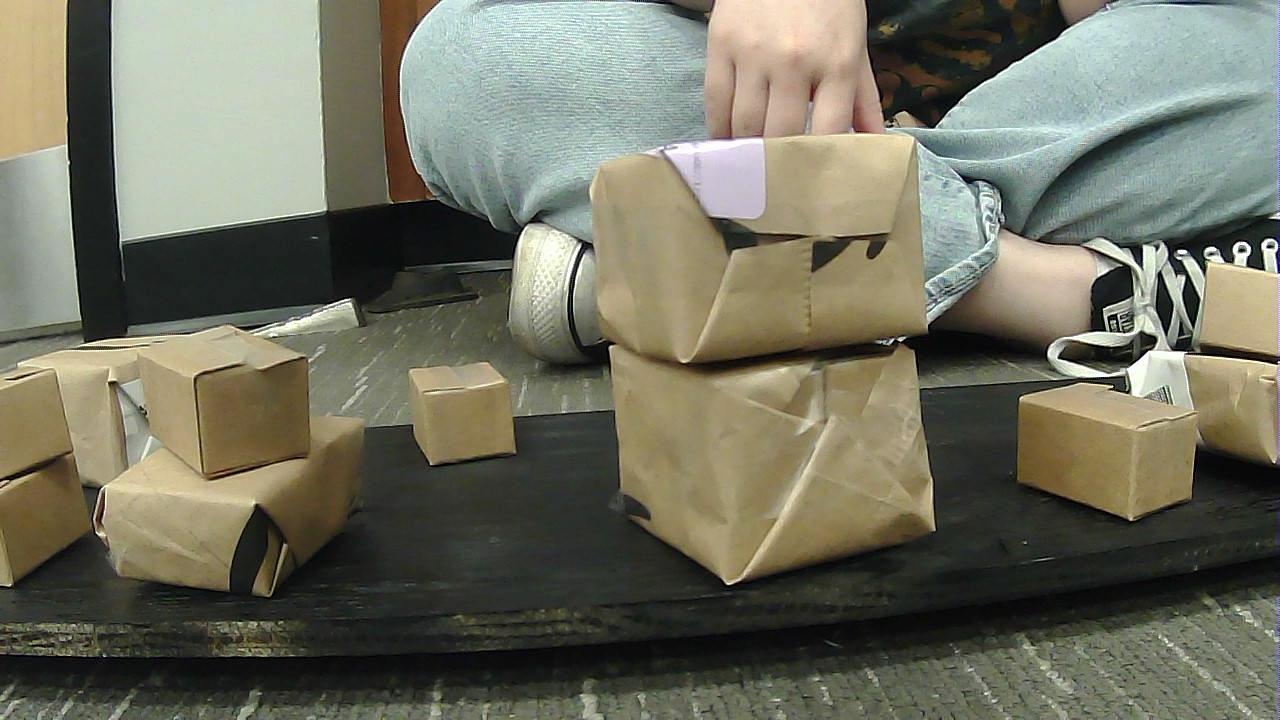package: (594, 340, 938, 576), (591, 141, 929, 366), (86, 409, 355, 592), (139, 324, 313, 474), (21, 340, 184, 500), (1010, 381, 1189, 524), (1131, 343, 1275, 480), (407, 359, 509, 466), (1176, 259, 1277, 364), (5, 463, 78, 588), (2, 365, 72, 486)
stacked: (595, 132, 958, 576), (99, 319, 349, 595), (1178, 247, 1276, 467), (3, 365, 92, 582)
